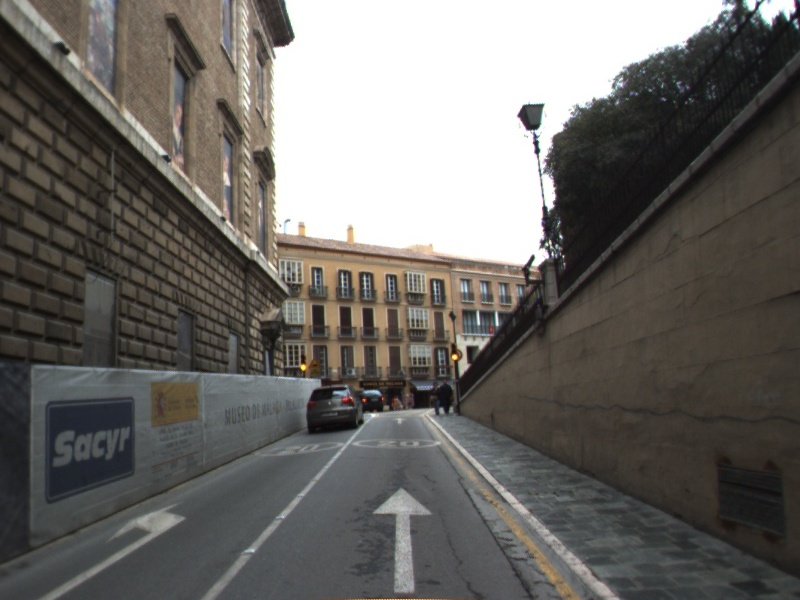LEFT: (36, 496, 190, 600)
STRAIGHT: (369, 484, 437, 595), (391, 416, 409, 426)
